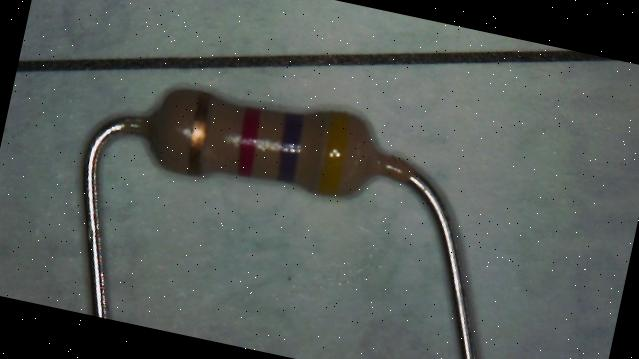gold: (182, 92, 215, 174)
red: (231, 106, 266, 176)
resistor: (122, 49, 406, 231)
violet: (271, 111, 308, 182)
yellow: (316, 109, 357, 196)
